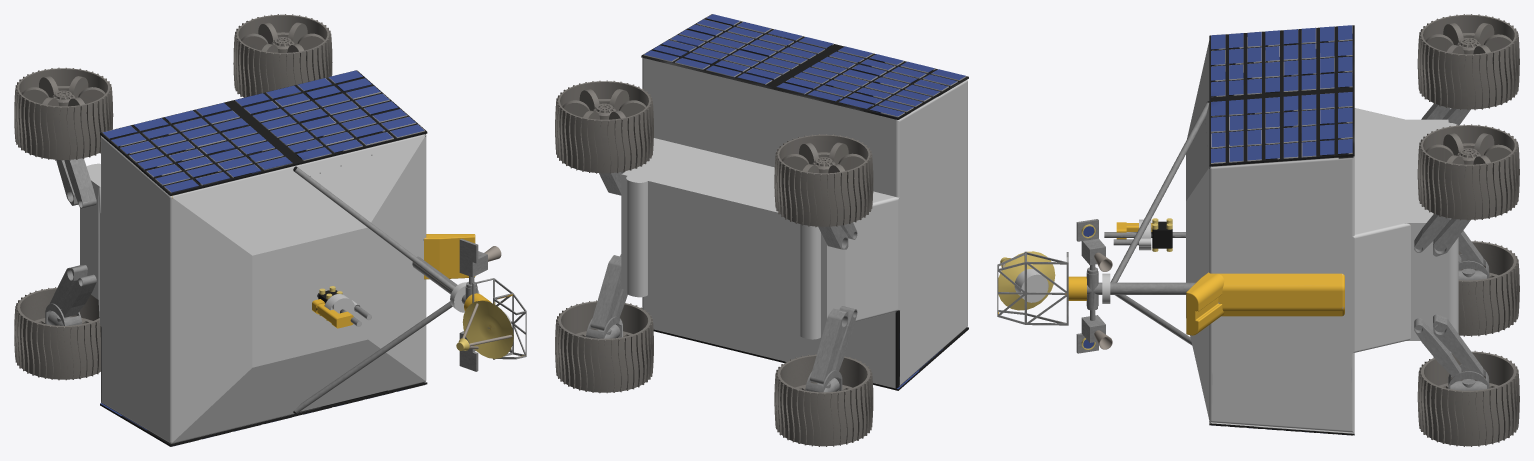
The model's file is Viper_2.fbx.
3 renders of one model, left to right at view 1: azimuth 30°, elevation 25°; view 2: azimuth 150°, elevation 25°; view 3: azimuth 270°, elevation 25°, orthographic. The views are drawn at different scales.
Parts seen in each view (by area): view 1: Body1_4, Body1_3, Body1_2, Body1; view 2: Body1_4, Body1_3, Body1_2, Body1, Body1_1; view 3: Body1_4, Body1_2, Body1_3, Body1_1, Body1.
Part boxes in pixels (bbox=[...]): Body1_4: bbox=[45, 70, 526, 446]; Body1_3: bbox=[14, 67, 113, 160]; Body1_2: bbox=[233, 14, 332, 97]; Body1: bbox=[14, 287, 100, 380]; Body1_4: bbox=[586, 14, 968, 392]; Body1_3: bbox=[774, 134, 873, 227]; Body1_2: bbox=[555, 80, 653, 173]; Body1: bbox=[774, 354, 873, 446]; Body1_1: bbox=[555, 300, 653, 393]; Body1_4: bbox=[997, 25, 1489, 435]; Body1_2: bbox=[1417, 124, 1519, 220]; Body1_3: bbox=[1417, 14, 1519, 110]; Body1_1: bbox=[1417, 350, 1519, 446]; Body1: bbox=[1458, 240, 1519, 336].
Size of the model in its own units: 1.89 by 1.53 by 2.56.
